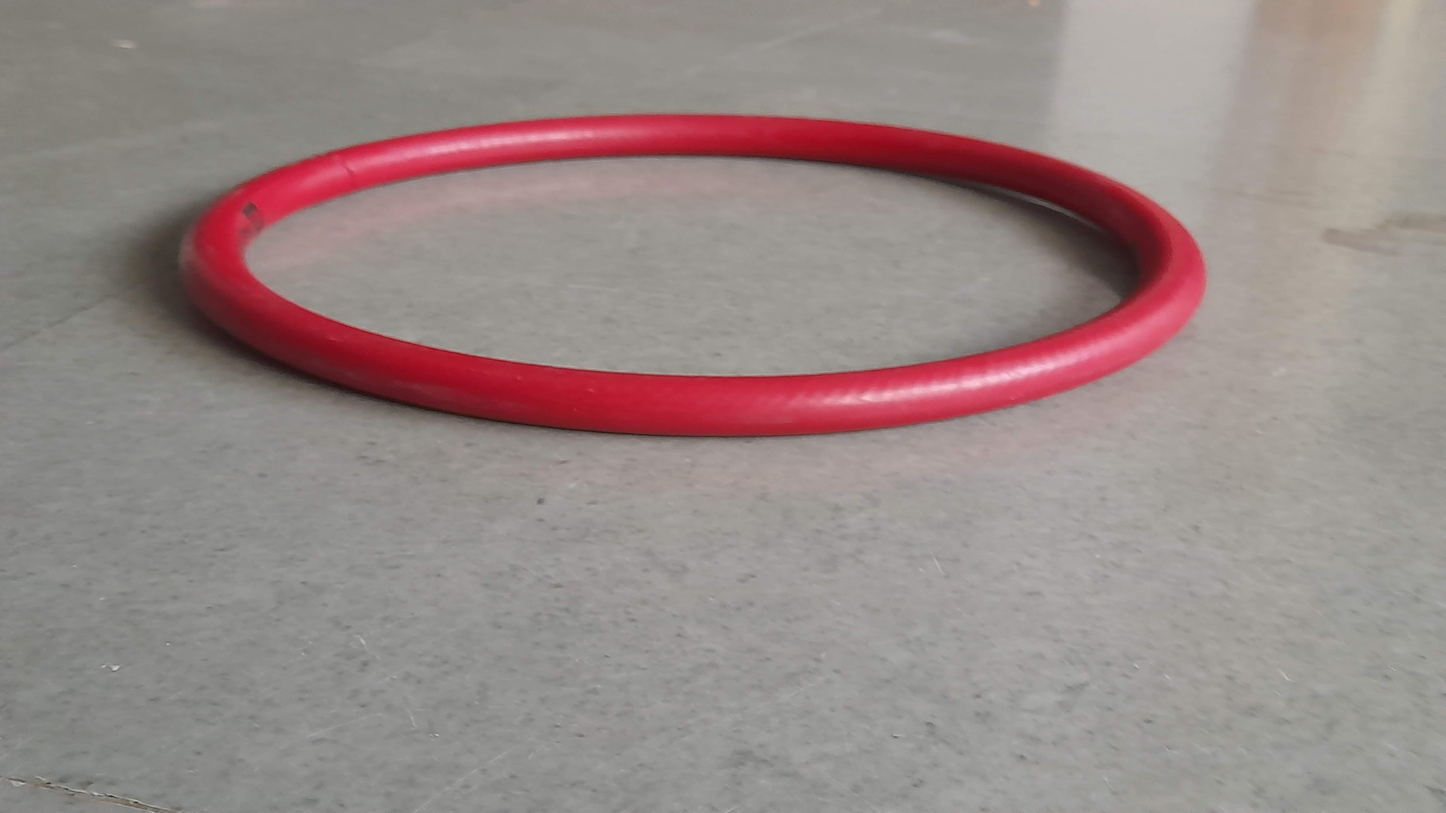Red ring: (175, 114, 1207, 433)
